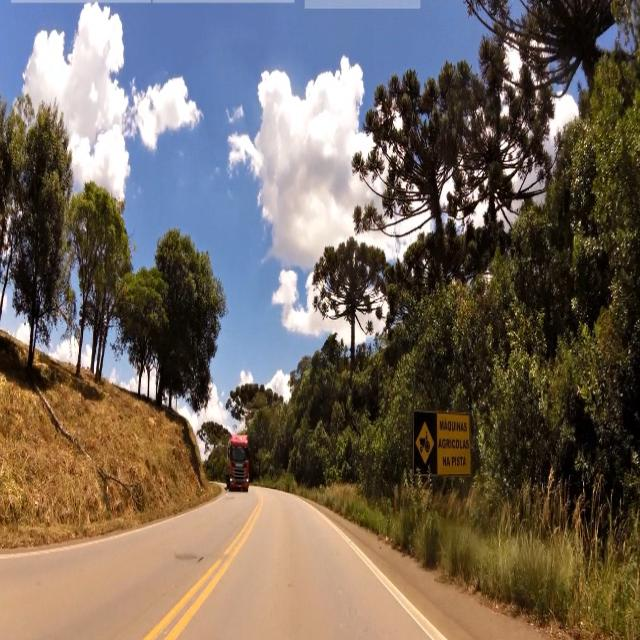A-31: (416, 420, 435, 466)
